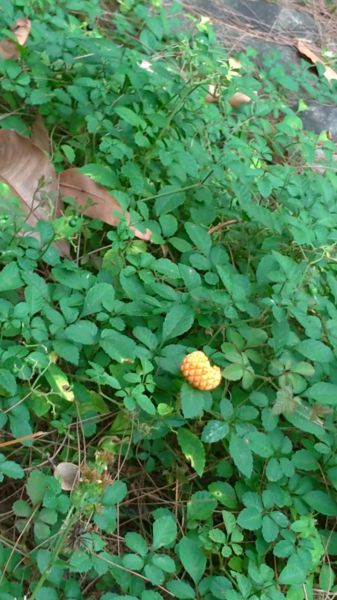eggs: (177, 348, 222, 395)
